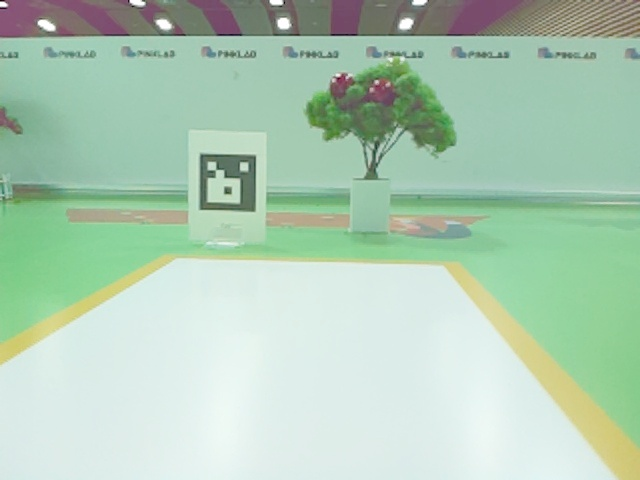apple: (372, 80, 387, 99), (335, 76, 351, 90)
